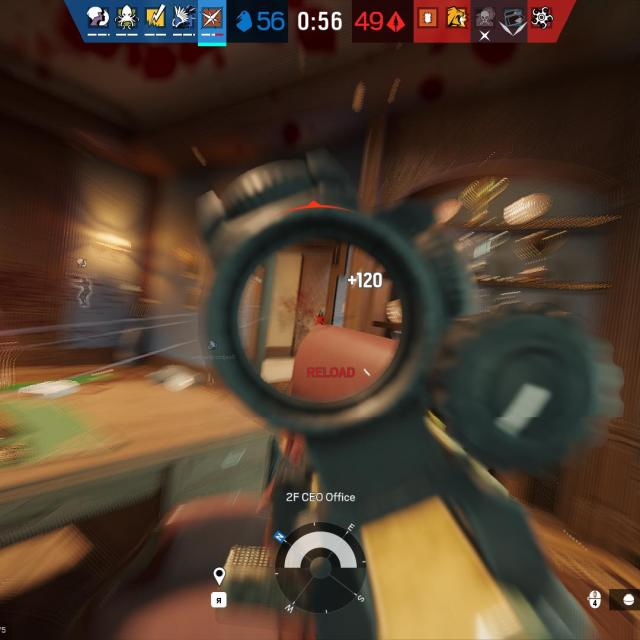Friend_label: (190, 338, 234, 362), (64, 257, 98, 279)
